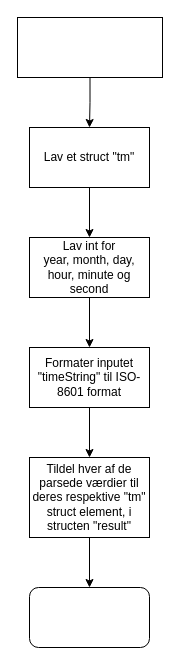
This 180x665 diagram has some shape labels left out. Each missing label, with the centre of its shape:
ConvertStringToTmTime: [89,47]
Retunerer dette "tm" struct "result": [89,617]
